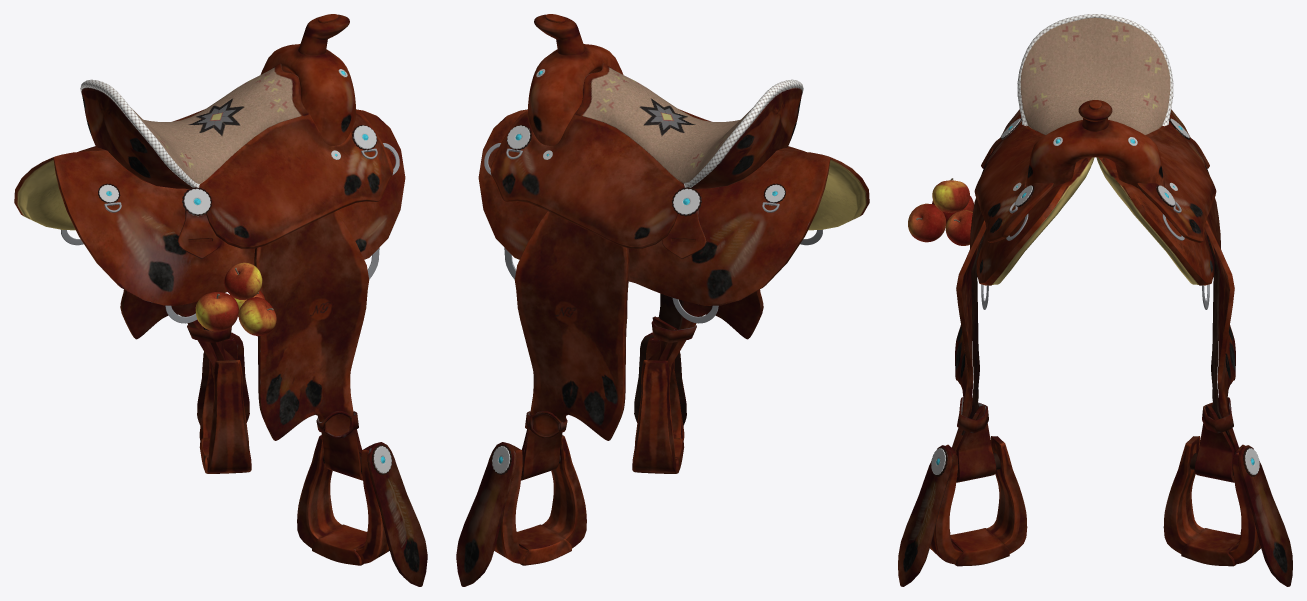
Rendered from cm_silla_montar.glb.
The picture shows the model from 3 angles, left to right: view 1: azimuth 30°, elevation 25°; view 2: azimuth 150°, elevation 25°; view 3: azimuth 270°, elevation 25°; orthographic projection.
Parts seen in each view (by area): view 1: seat_low, saddleskirt_low, fenderRT_low, horn_low, stirrupRT_low, stirrupLF_low, stirrupleatherRT_low, fenderLF_low, apple1_low, apple2_low, apple3_low, stirrupleatherLF_low (+2 smaller); view 2: seat_low, saddleskirt_low, fenderLF_low, horn_low, stirrupLF_low, stirrupRT_low, stirrupleatherLF_low, fenderRT_low, stirrupleatherRT_low, fenderwrapLF_low, fenderleatherRT_low, fenderwrapRT_low (+1 smaller); view 3: seat_low, saddleskirt_low, horn_low, stirrupRT_low, stirrupLF_low, fenderLF_low, fenderRT_low, stirrupleatherLF_low, stirrupleatherRT_low, apple2_low, fenderleatherRT_low, fenderleatherLF_low (+4 smaller).
Part boxes in pixels (left/top/right/bottom): seat_low: left=80, top=63, right=393, bottom=258; saddleskirt_low: left=14, top=109, right=405, bottom=305; fenderRT_low: left=254, top=211, right=369, bottom=480; horn_low: left=260, top=14, right=356, bottom=145; stirrupRT_low: left=297, top=435, right=389, bottom=565; stirrupLF_low: left=199, top=337, right=251, bottom=473; stirrupleatherRT_low: left=367, top=442, right=427, bottom=586; fenderLF_low: left=120, top=289, right=235, bottom=377; apple1_low: left=195, top=292, right=238, bottom=331; apple2_low: left=238, top=297, right=276, bottom=335; apple3_low: left=224, top=262, right=262, bottom=299; stirrupleatherLF_low: left=197, top=332, right=249, bottom=425; seat_low: left=490, top=63, right=803, bottom=258; saddleskirt_low: left=478, top=109, right=869, bottom=305; fenderLF_low: left=514, top=211, right=629, bottom=480; horn_low: left=527, top=14, right=623, bottom=145; stirrupLF_low: left=494, top=435, right=586, bottom=565; stirrupRT_low: left=632, top=337, right=684, bottom=473; stirrupleatherLF_low: left=456, top=442, right=516, bottom=586; fenderRT_low: left=648, top=289, right=763, bottom=377; stirrupleatherRT_low: left=634, top=332, right=686, bottom=425; fenderwrapLF_low: left=525, top=410, right=567, bottom=438; fenderleatherRT_low: left=659, top=293, right=683, bottom=346; fenderwrapRT_low: left=651, top=317, right=696, bottom=342; seat_low: left=974, top=14, right=1216, bottom=242; saddleskirt_low: left=976, top=109, right=1214, bottom=285; horn_low: left=1026, top=100, right=1164, bottom=188; stirrupRT_low: left=930, top=436, right=1027, bottom=566; stirrupLF_low: left=1163, top=436, right=1260, bottom=566; fenderLF_low: left=1194, top=197, right=1238, bottom=482; fenderRT_low: left=952, top=197, right=996, bottom=482; stirrupleatherLF_low: left=1238, top=445, right=1292, bottom=586; stirrupleatherRT_low: left=898, top=445, right=952, bottom=586; apple2_low: left=908, top=203, right=946, bottom=242; fenderleatherRT_low: left=961, top=235, right=984, bottom=435; fenderleatherLF_low: left=1206, top=235, right=1229, bottom=435.
Size of the model in its own units: 0.587 by 0.8705 by 0.6395.
1 material, 1 textured.
